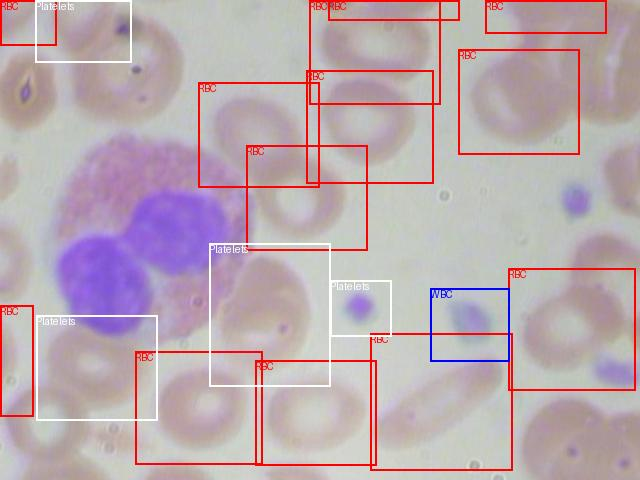Platelets: (209, 243, 330, 386), (36, 315, 157, 420), (35, 0, 131, 62), (330, 280, 391, 336)
RBC: (370, 333, 512, 470), (508, 268, 635, 390), (135, 351, 262, 464), (306, 70, 433, 183), (309, 0, 440, 104), (255, 360, 376, 465), (246, 145, 367, 250), (198, 82, 319, 187), (458, 49, 579, 154), (485, 0, 606, 33), (0, 305, 33, 416), (328, 0, 459, 20), (0, 0, 56, 45)
WBC: (430, 288, 509, 361)
